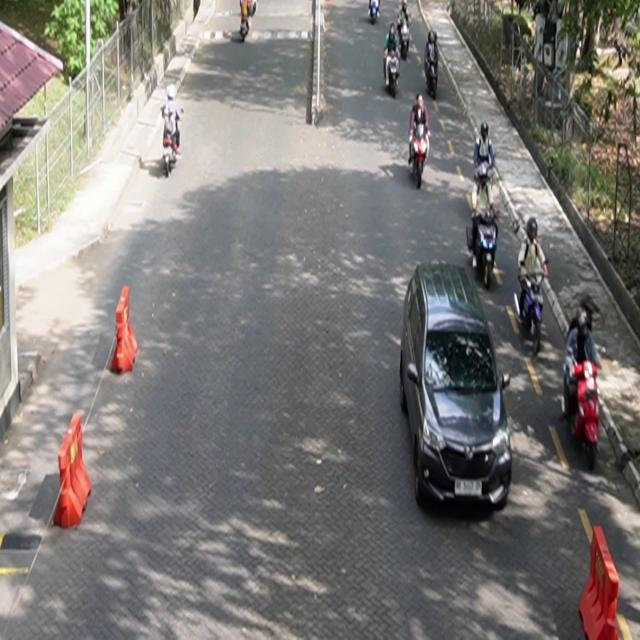car: (400, 261, 513, 513)
